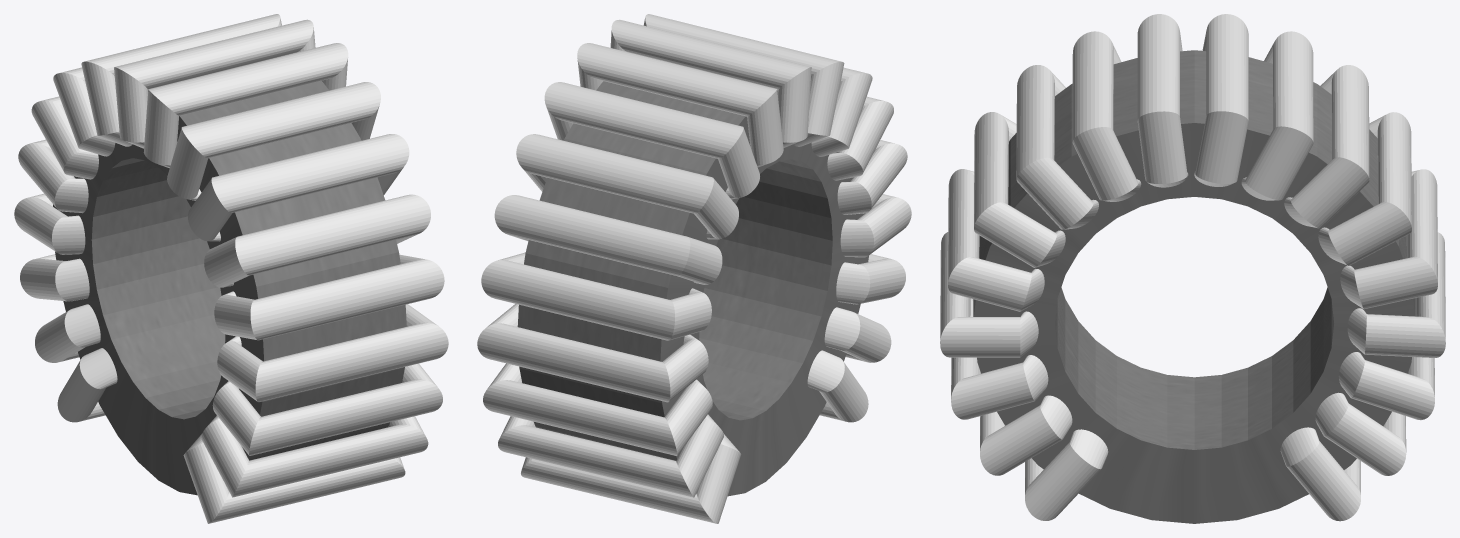
Rendered from inductor_hoop.fbx.
3 views of the same model, side by side, from view 1: azimuth 30°, elevation 25°; view 2: azimuth 150°, elevation 25°; view 3: azimuth 270°, elevation 25° (orthographic). The views are drawn at different scales.
Parts seen in each view (by area): view 1: Repeater, Hoop; view 2: Repeater, Hoop; view 3: Repeater, Hoop.
Boxes of the visible parts, left/top/right/bottom form: Repeater: left=14, top=14, right=448, bottom=523; Hoop: left=53, top=81, right=406, bottom=495; Repeater: left=477, top=14, right=911, bottom=523; Hoop: left=517, top=81, right=868, bottom=496; Repeater: left=940, top=14, right=1445, bottom=521; Hoop: left=973, top=50, right=1415, bottom=523.
Size of the model in its own units: 143 by 288 by 310.
